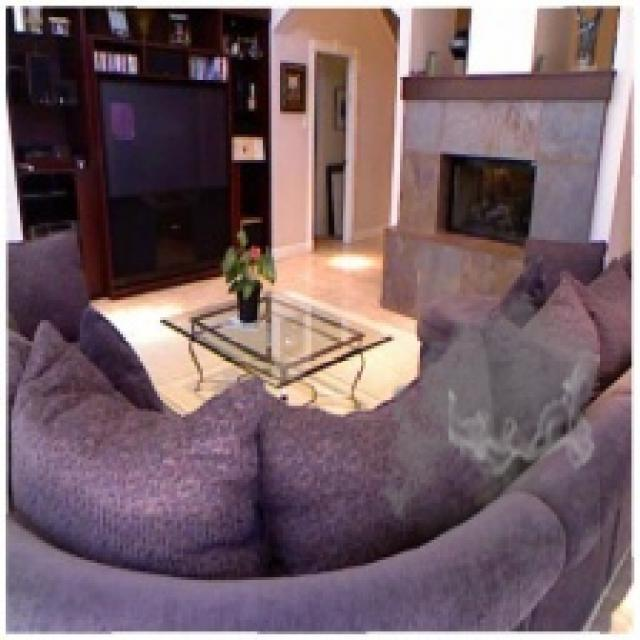Smoke: (377, 277, 603, 552)
